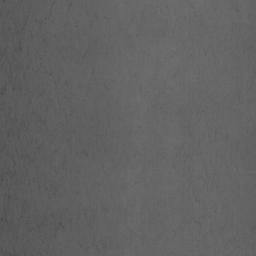Silk spot: (13, 16, 29, 35), (0, 208, 13, 224), (35, 17, 49, 30), (8, 64, 17, 82), (54, 222, 64, 238), (1, 248, 19, 256), (92, 240, 107, 249), (0, 48, 7, 67), (21, 153, 34, 162), (14, 39, 22, 52)
